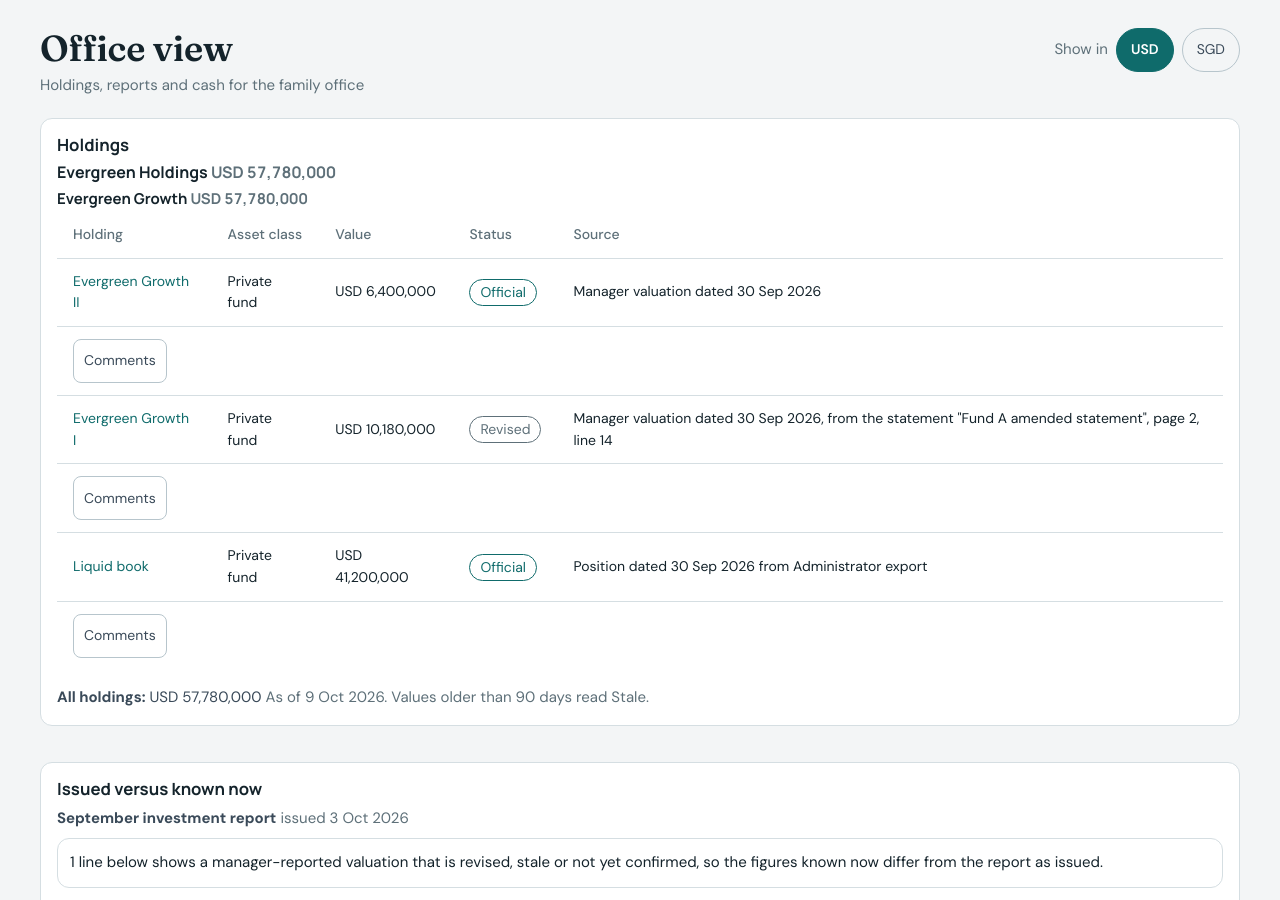
switching currency clears the old figures while the new ones load (a4.9)
The image size is (1280, 900).
Click the button "SGD".
click(1211, 50)  # box [1182, 28, 1240, 72]
(page scrolled)
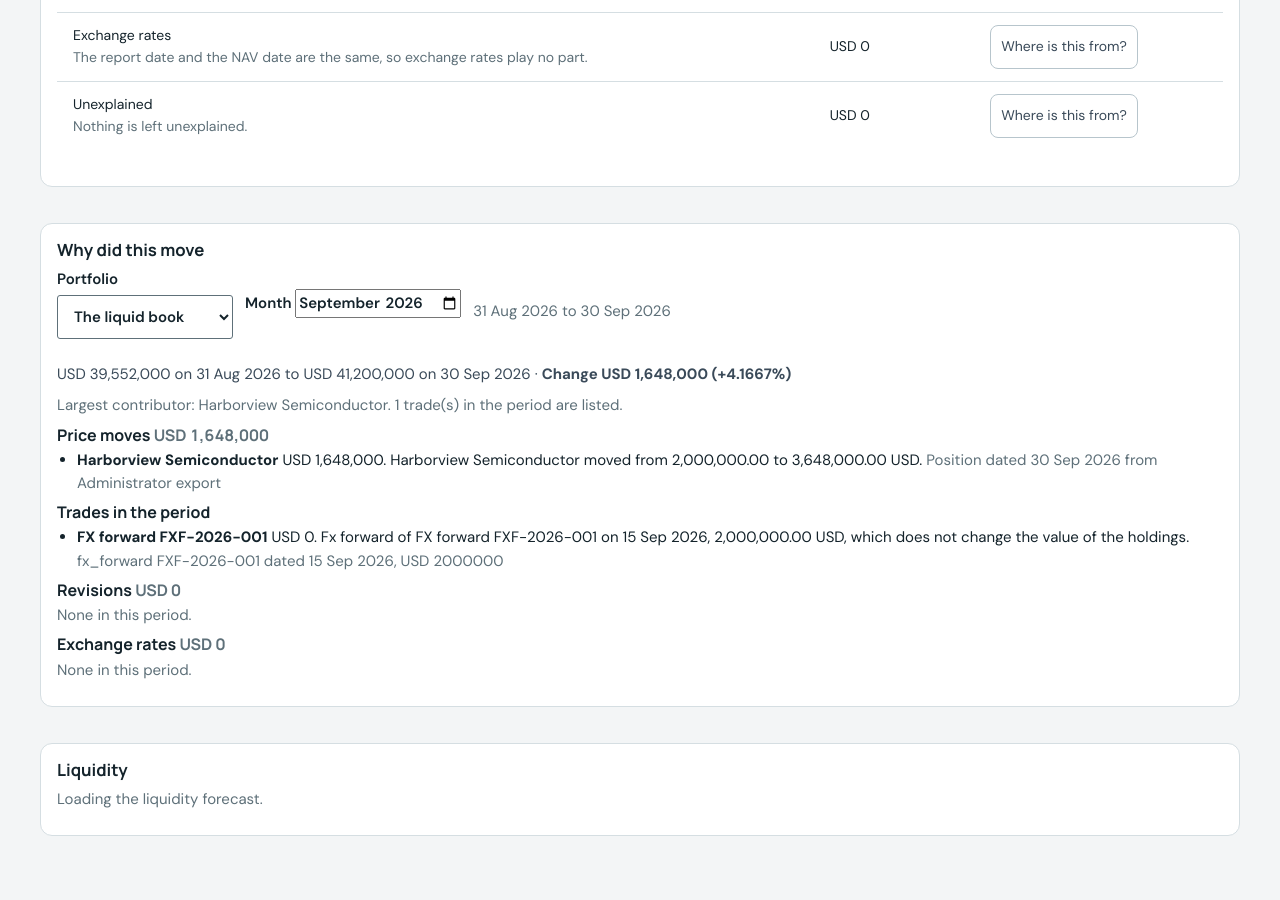
Now the text "Loading the liquidity forecast." is shown, box [57, 789, 263, 809]
